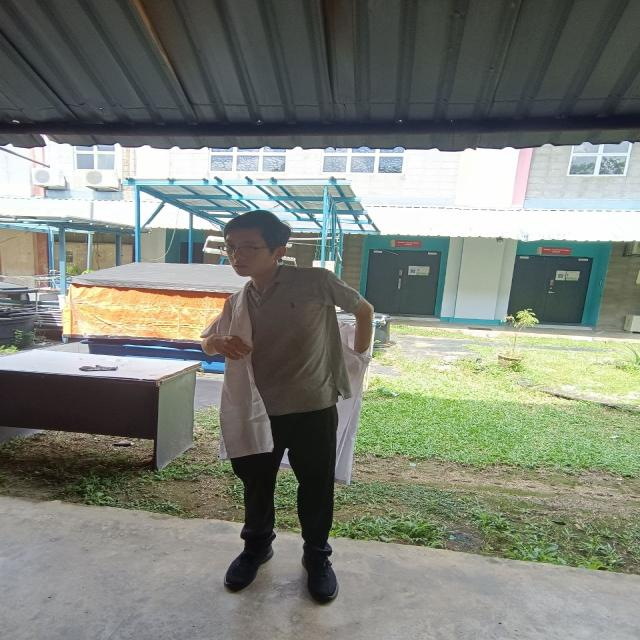person_without_labcoat: (201, 212, 373, 601)
